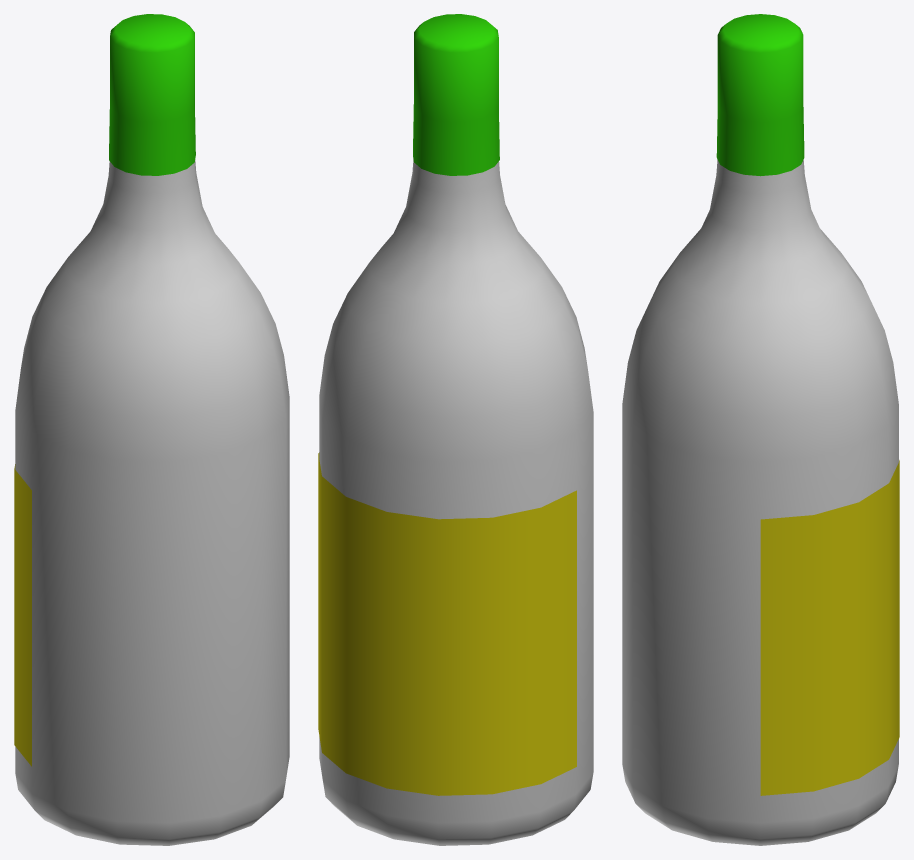
The model's file is BHP_MOD_E_BOT_Red_wine.fbx.
3 views of the same model, side by side, from view 1: azimuth 30°, elevation 25°; view 2: azimuth 150°, elevation 25°; view 3: azimuth 270°, elevation 25° (orthographic).
Parts seen in each view (by area): view 1: BHP_MOD_E_BOT_Red_wine; view 2: BHP_MOD_E_BOT_Red_wine; view 3: BHP_MOD_E_BOT_Red_wine.
Boxes of the visible parts, x1,y1,x2,y2 form: BHP_MOD_E_BOT_Red_wine: (14,14,289,845); BHP_MOD_E_BOT_Red_wine: (318,14,593,845); BHP_MOD_E_BOT_Red_wine: (622,14,899,845).
Bounding box in the file's own units: 0.0982 × 0.2977 × 0.098.
